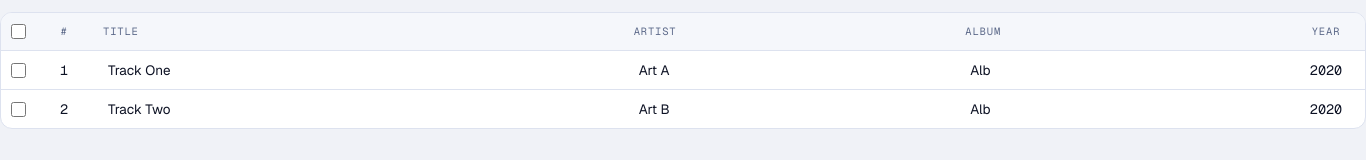
TagTable › editing a title input marks the cell dirty
Replace the text in the 2nd field showing "Track One" with "Edited" at (358, 70), box [99,55,618,85]
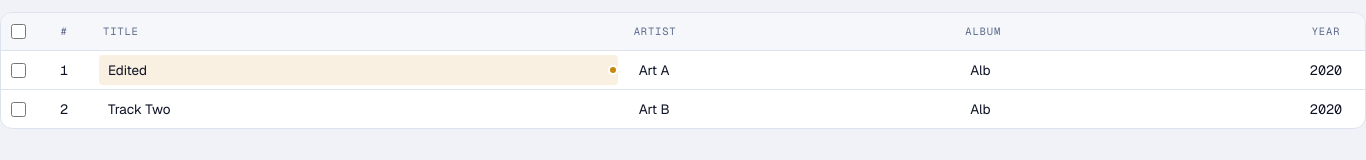
Expected: the element titled "unsaved change" is shown, [610,67,616,73]
